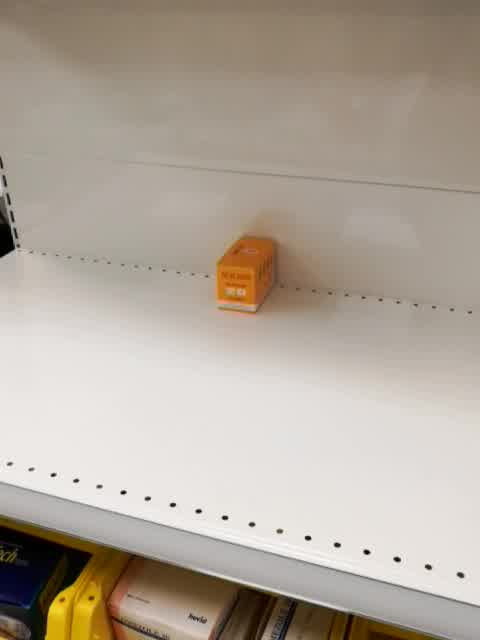jasminetea: (216, 233, 279, 315)
